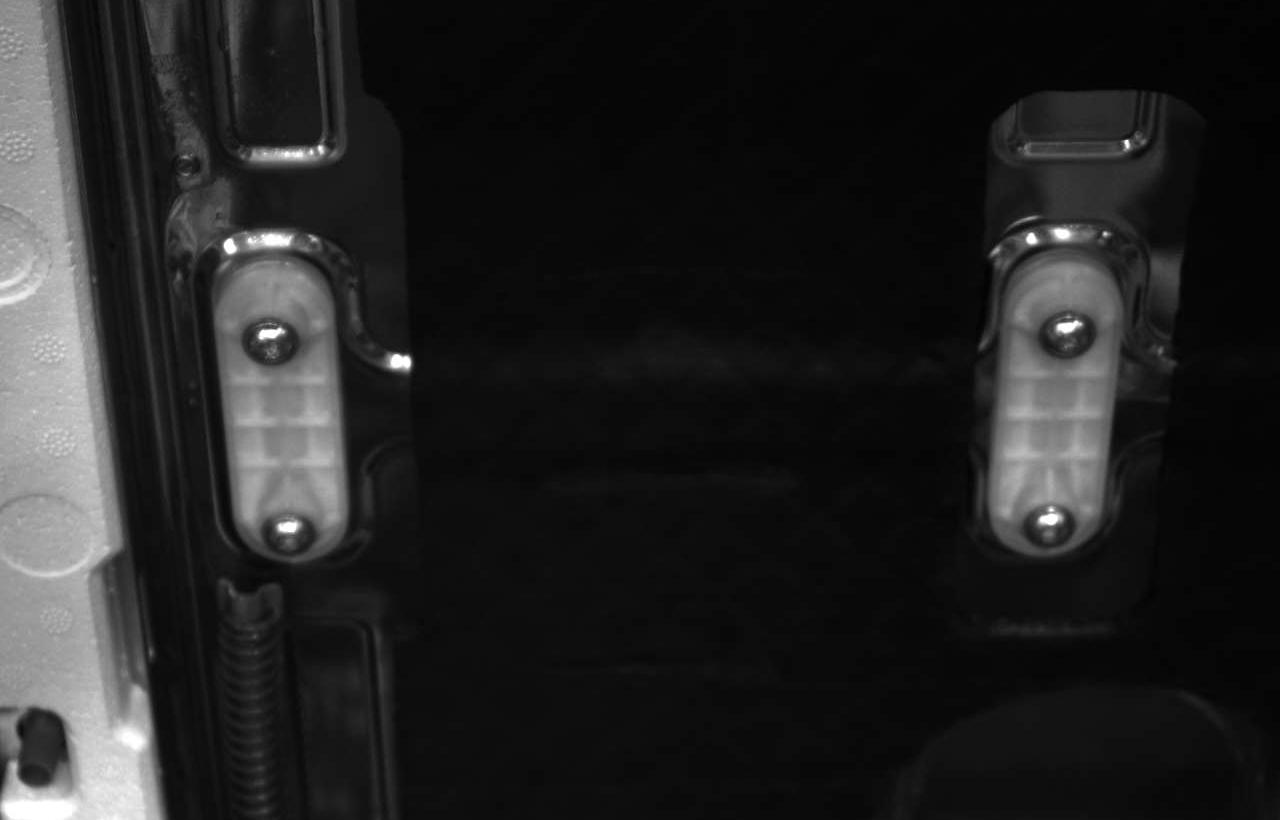vida-ok: (237, 308, 309, 375), (1034, 299, 1101, 367), (1016, 488, 1081, 557), (256, 504, 321, 562)
